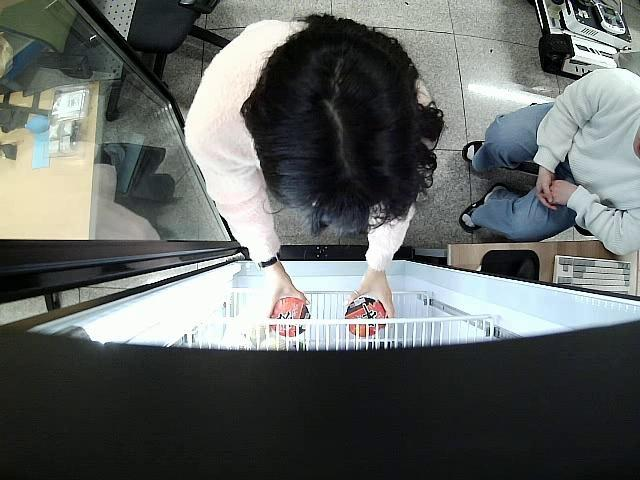02_shinRamen_S: (344, 297, 387, 338), (268, 297, 310, 338)
